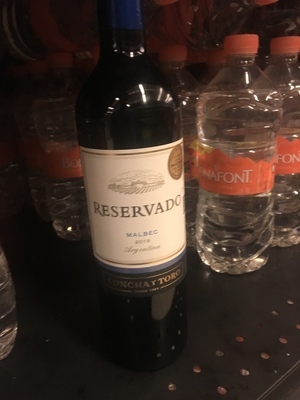reservado malbec: (78, 16, 211, 334)
